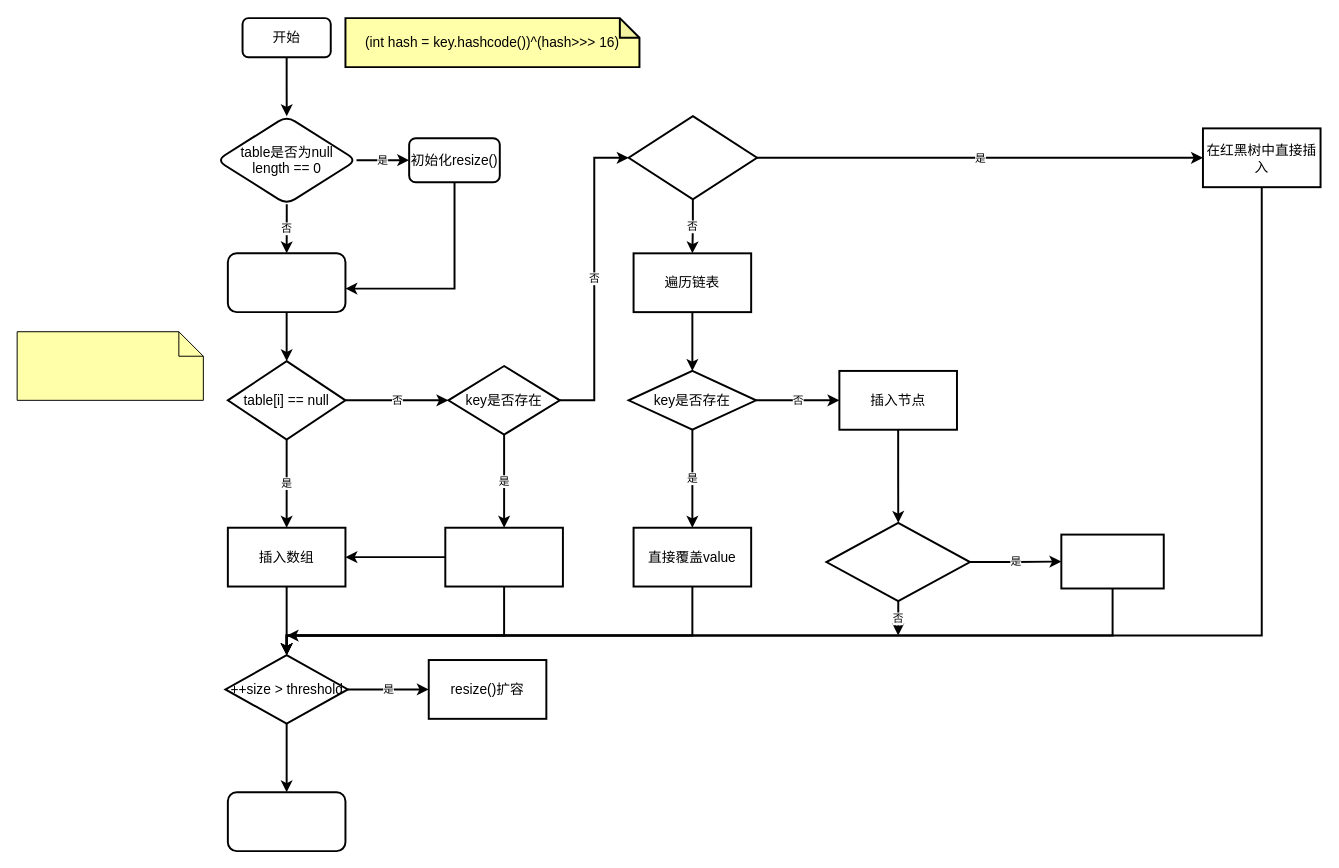
Some shapes in this 1339 by 868 pixel diagram are drawn without their labels. The centre of each missing label's shape, as x and y in pixels:
"i = (table.length-1) & hash" belongs at (x=109, y=365).
"table[i]是否是TreeNode" belongs at (x=692, y=157).
"根据key计算索引" belongs at (x=286, y=282).
"直接覆盖" belongs at (x=503, y=556).
"结束" belongs at (x=286, y=821).
"转为红黑树" belongs at (x=1112, y=561).
"链表长度是否 大于8" belongs at (x=897, y=561).
